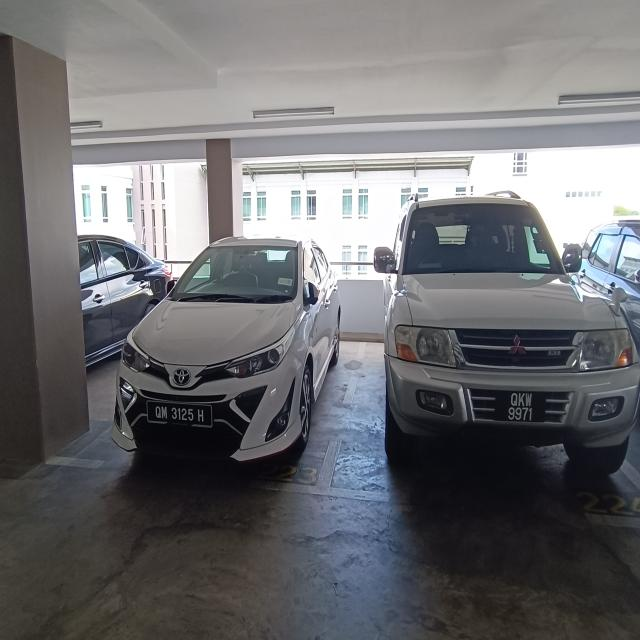ToyotaVios: (96, 224, 357, 488)
